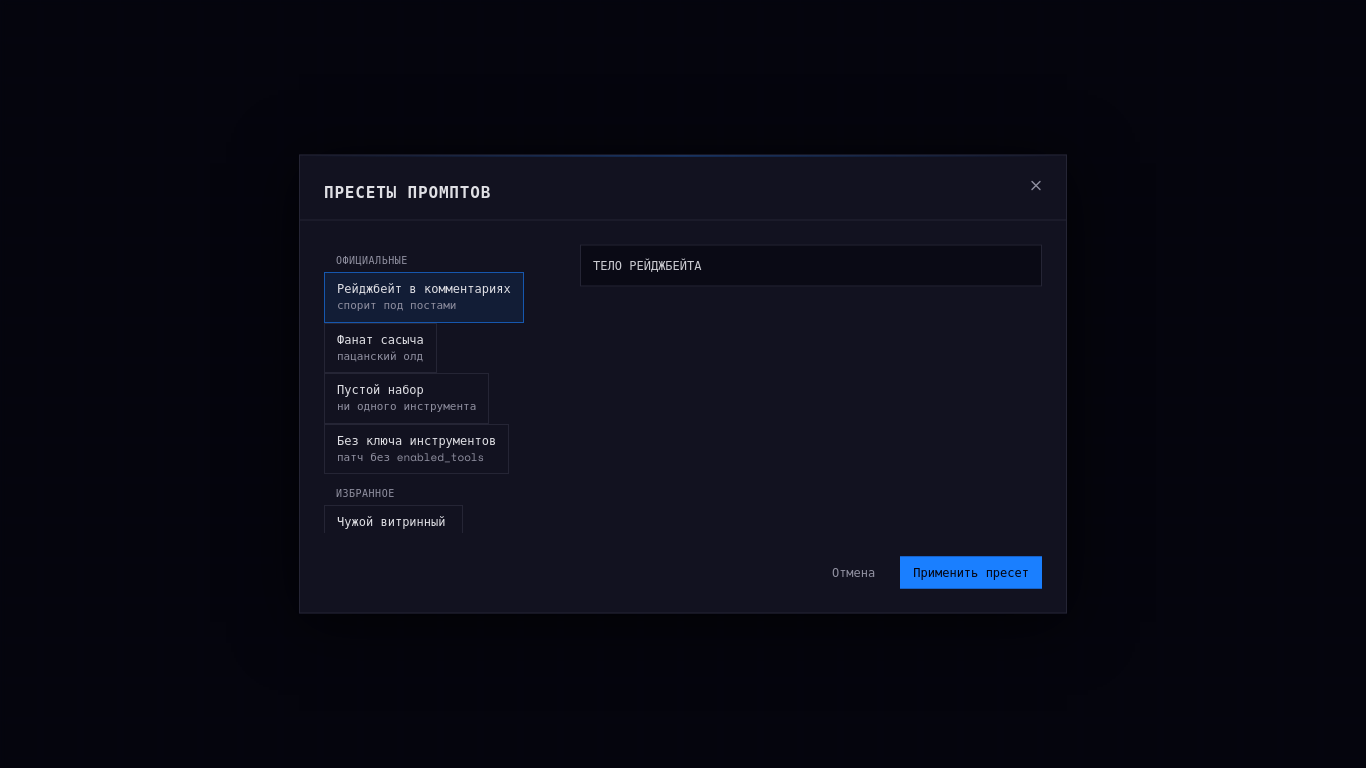
it: PresetPickerDialog › живое избранное показывает текущую версию пресета
Click the option "Чужой витринный сохранённый чужой".
click(393, 530)  # box x1=324 y1=504 x2=463 y2=555
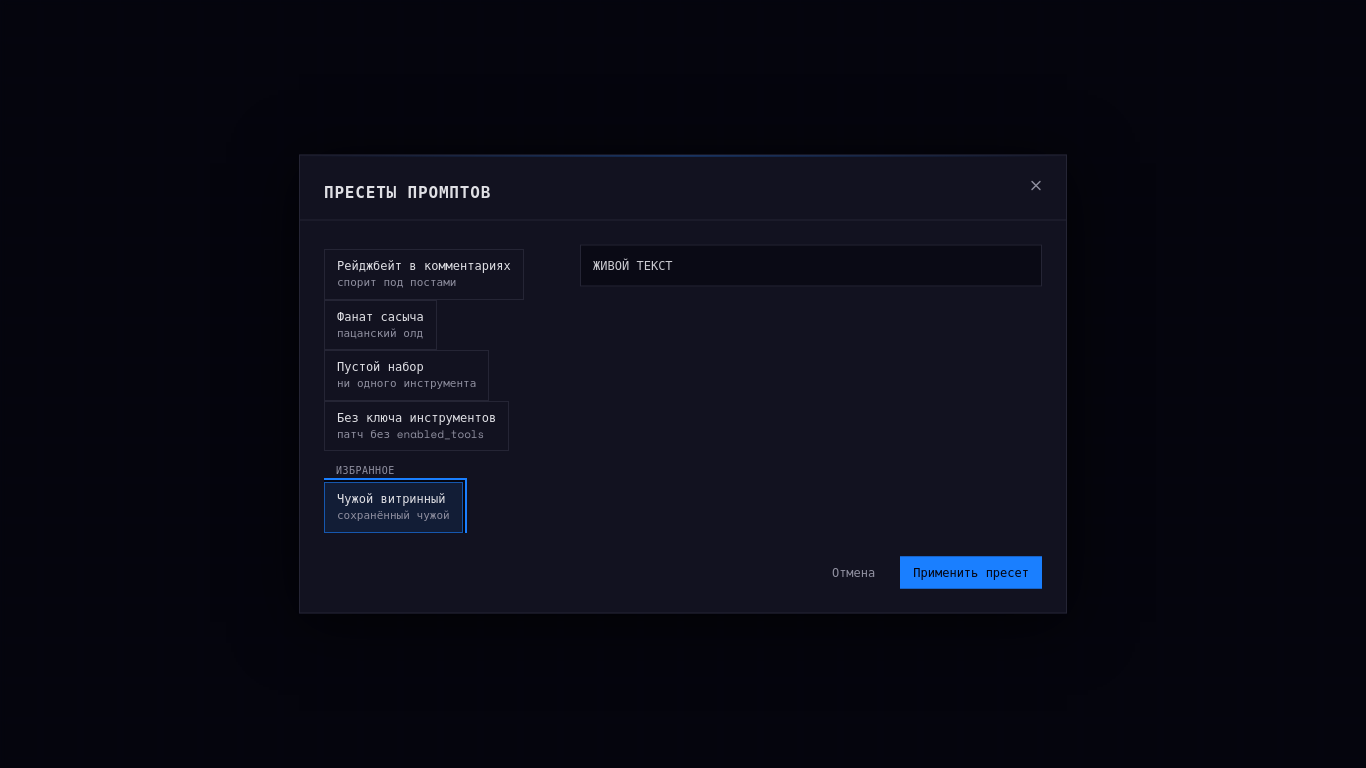
Expected: the text with test id "preset-body" reads "ЖИВОЙ ТЕКСТ", x1=593 y1=256 x2=673 y2=274
